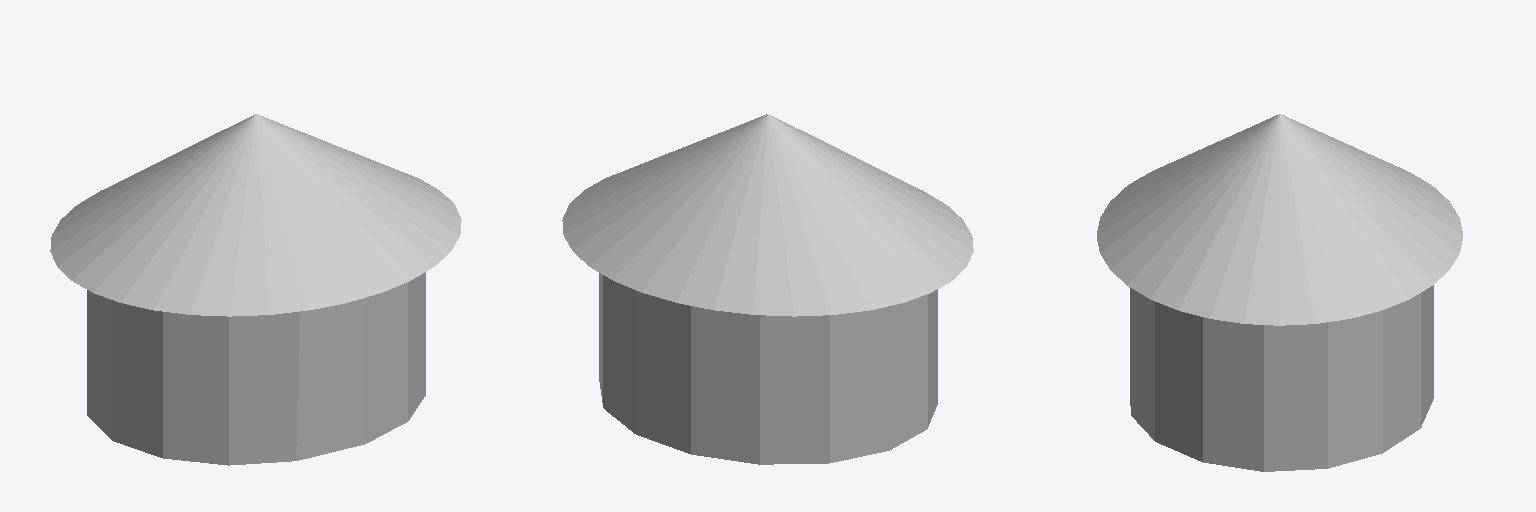
Rendered from hut.obj.
3 renders of one model, left to right at view 1: azimuth 30°, elevation 25°; view 2: azimuth 150°, elevation 25°; view 3: azimuth 270°, elevation 25°, orthographic.
Parts seen in each view (by area): view 1: Cone, Cylinder; view 2: Cone, Cylinder; view 3: Cone, Cylinder.
Boxes of the visible parts, x1=… form: Cone: x1=50, y1=114, x2=461, y2=316; Cylinder: x1=87, y1=272, x2=425, y2=465; Cone: x1=562, y1=114, x2=973, y2=316; Cylinder: x1=599, y1=273, x2=937, y2=464; Cone: x1=1097, y1=114, x2=1462, y2=325; Cylinder: x1=1129, y1=285, x2=1433, y2=471.
Bounding box in the file's own units: 6.34 × 4.66 × 5.46.